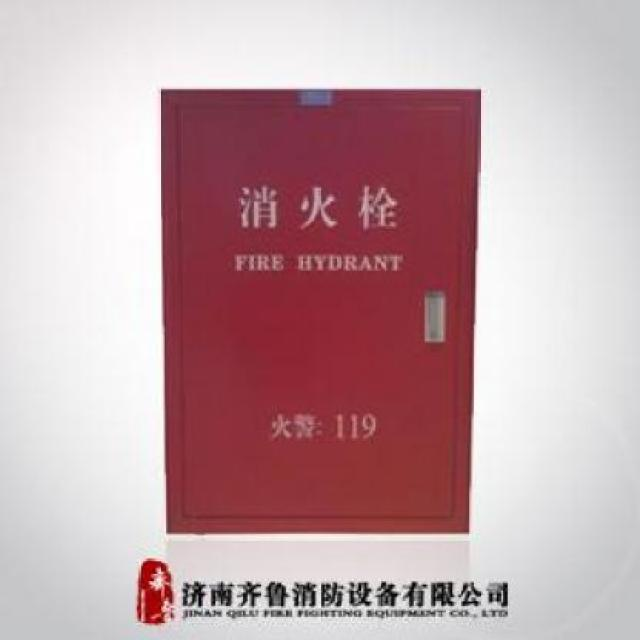firehydrant: (160, 89, 483, 543)
